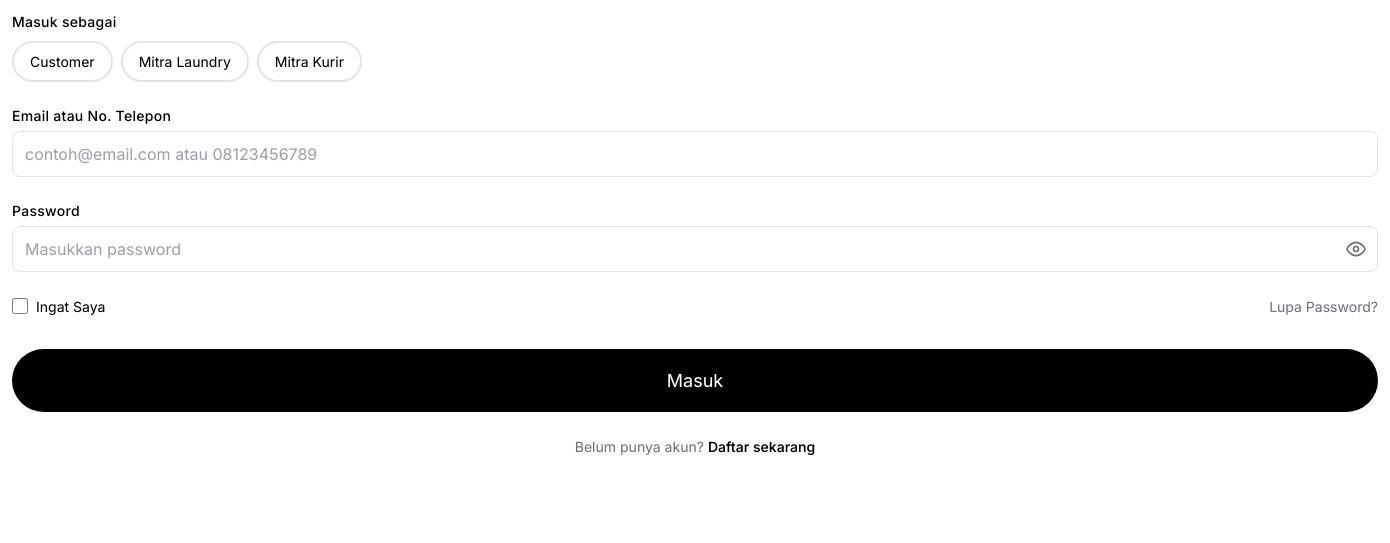
Test: LoginForm › error handling › displays error message from axios response
This screenshot has width=1390, height=543.
Click the button "Customer" at {"x": 62, "y": 61}, box [12,41,113,82]
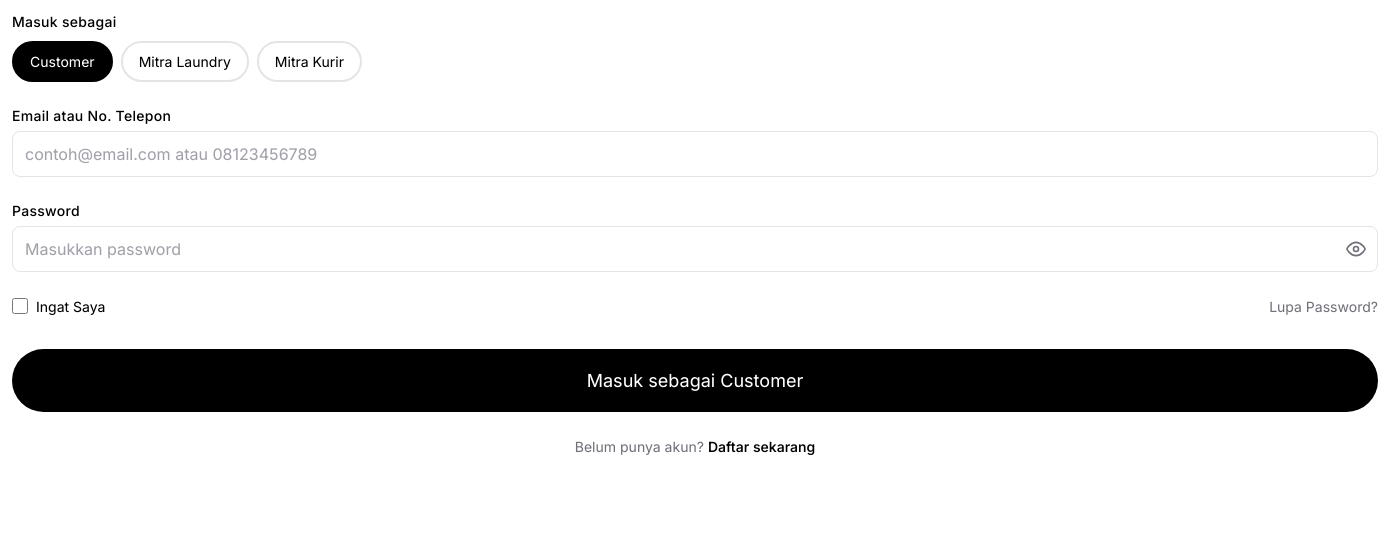
Type "test@email.com" into the field labelled "Email atau No. Telepon" at {"x": 695, "y": 154}, box [12,131,1378,177]
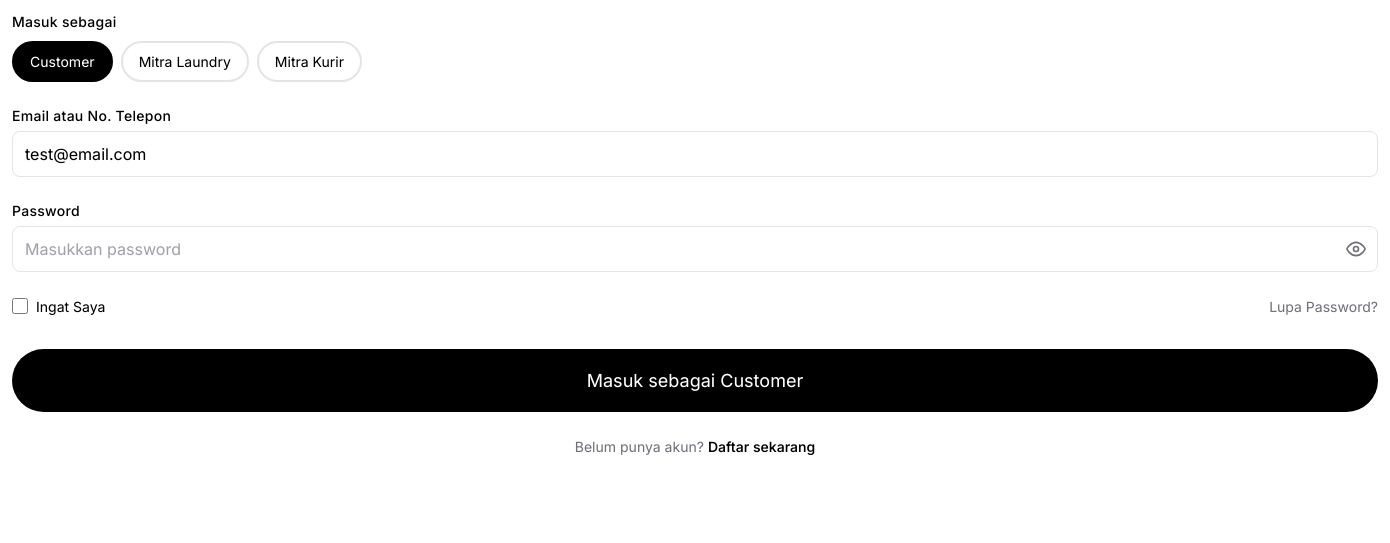
Type "wrongpassword" into the password field labelled "Password" at {"x": 695, "y": 249}, box [12,226,1378,272]
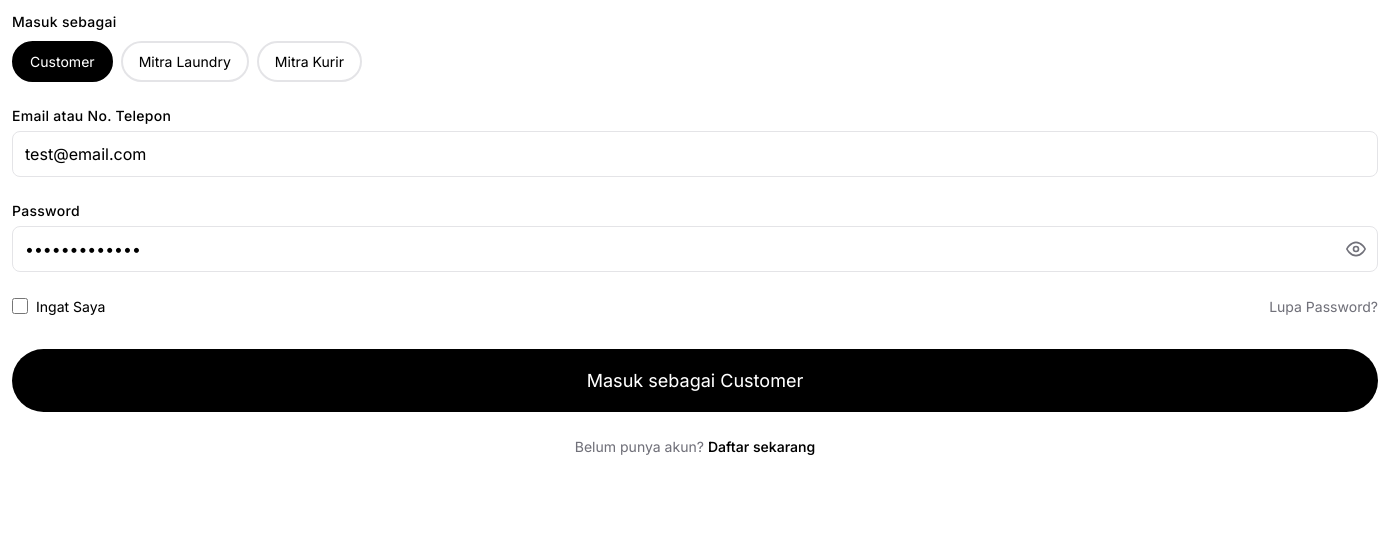
Click the button "Masuk sebagai Customer" at {"x": 695, "y": 380}, box [12,349,1378,412]
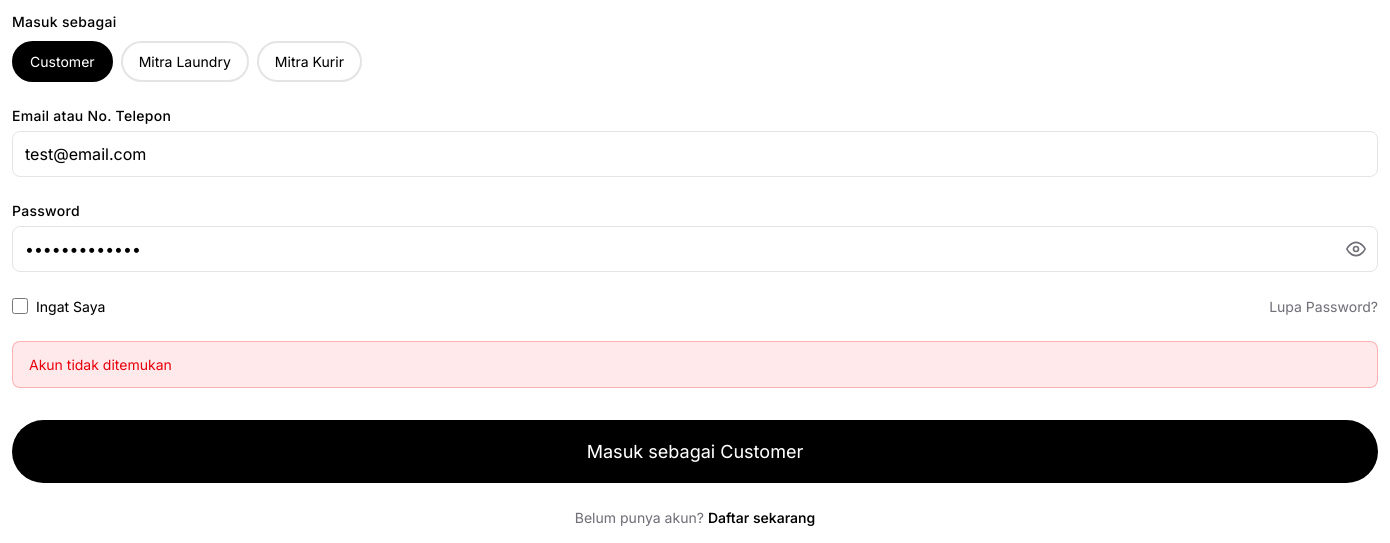
Now the text "Akun tidak ditemukan" is shown, box [12,341,1378,388]
